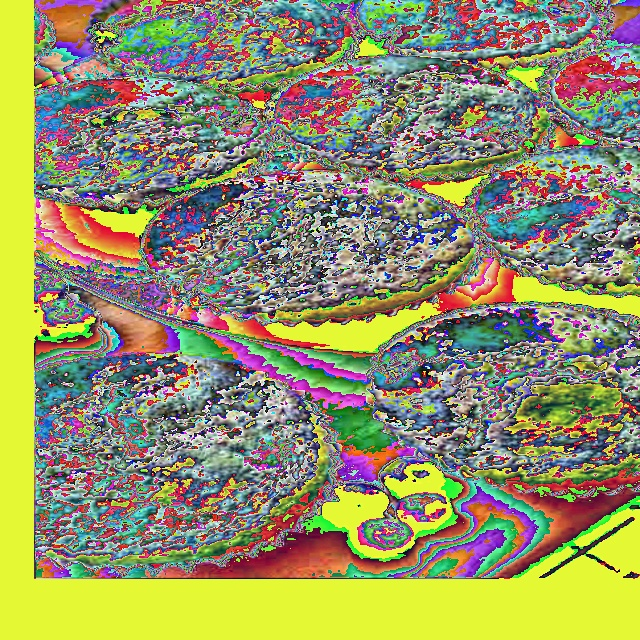background: (35, 0, 639, 328), (36, 215, 331, 565), (319, 252, 639, 555), (35, 71, 103, 340), (24, 6, 58, 67)
